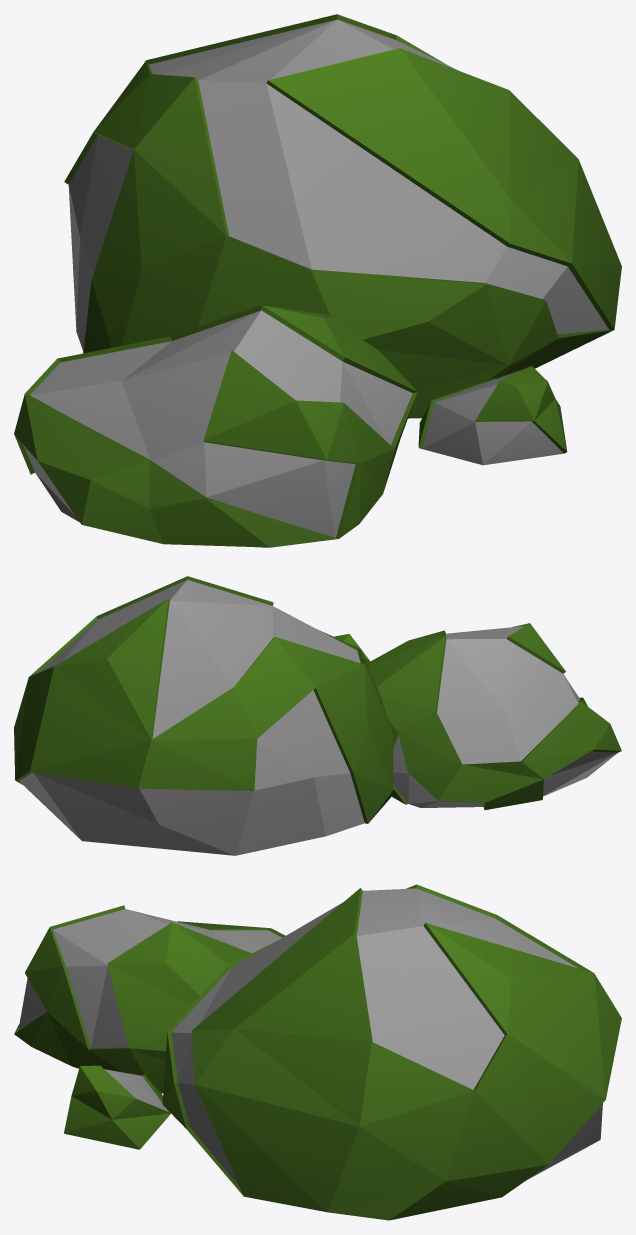
Rendered from stone001.gltf.
3 renders of one model, top to bottom at view 1: azimuth 30°, elevation 25°; view 2: azimuth 150°, elevation 25°; view 3: azimuth 270°, elevation 25°, orthographic. The views are drawn at different scales.
Visible parts, largest first — view 1: Stone_group_average_mossy; view 2: Stone_group_average_mossy; view 3: Stone_group_average_mossy.
Part boxes in pixels (x1,y1,x2,y2): Stone_group_average_mossy: [14, 14, 621, 547]; Stone_group_average_mossy: [14, 576, 621, 855]; Stone_group_average_mossy: [14, 884, 621, 1220].
Bounding box in the file's own units: 2.97 × 1.15 × 2.93.
1 material, 1 textured.
